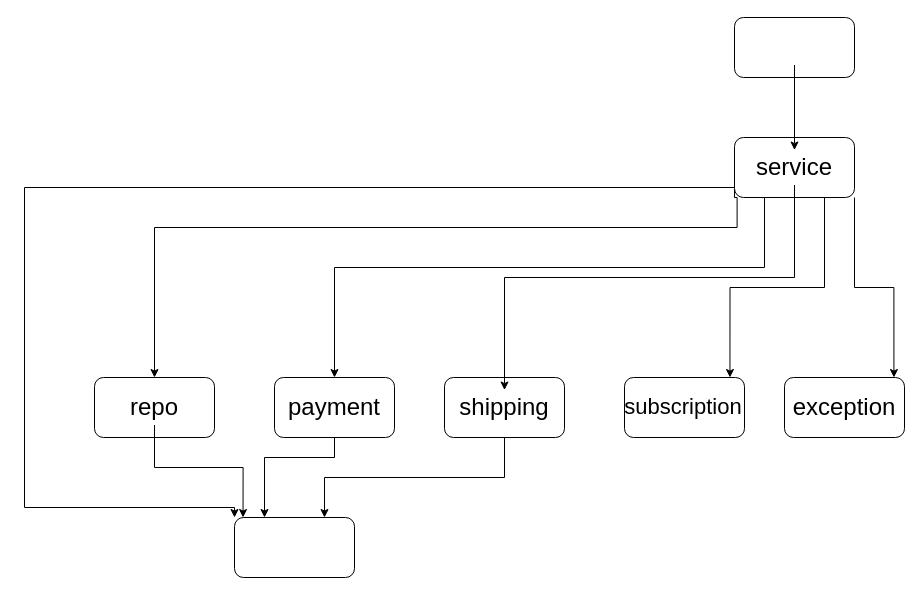
Image size: 922x595. Some labels were removed from this diagram. Here are the shapes that lost their labels. From the top down, the centre of each, then its label:
At point (794, 47): "app".
At point (294, 547): "model".
